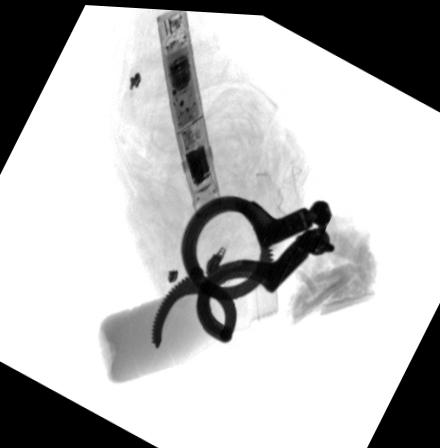Baton: (153, 8, 223, 216)
HandCuffs: (148, 189, 334, 349)
